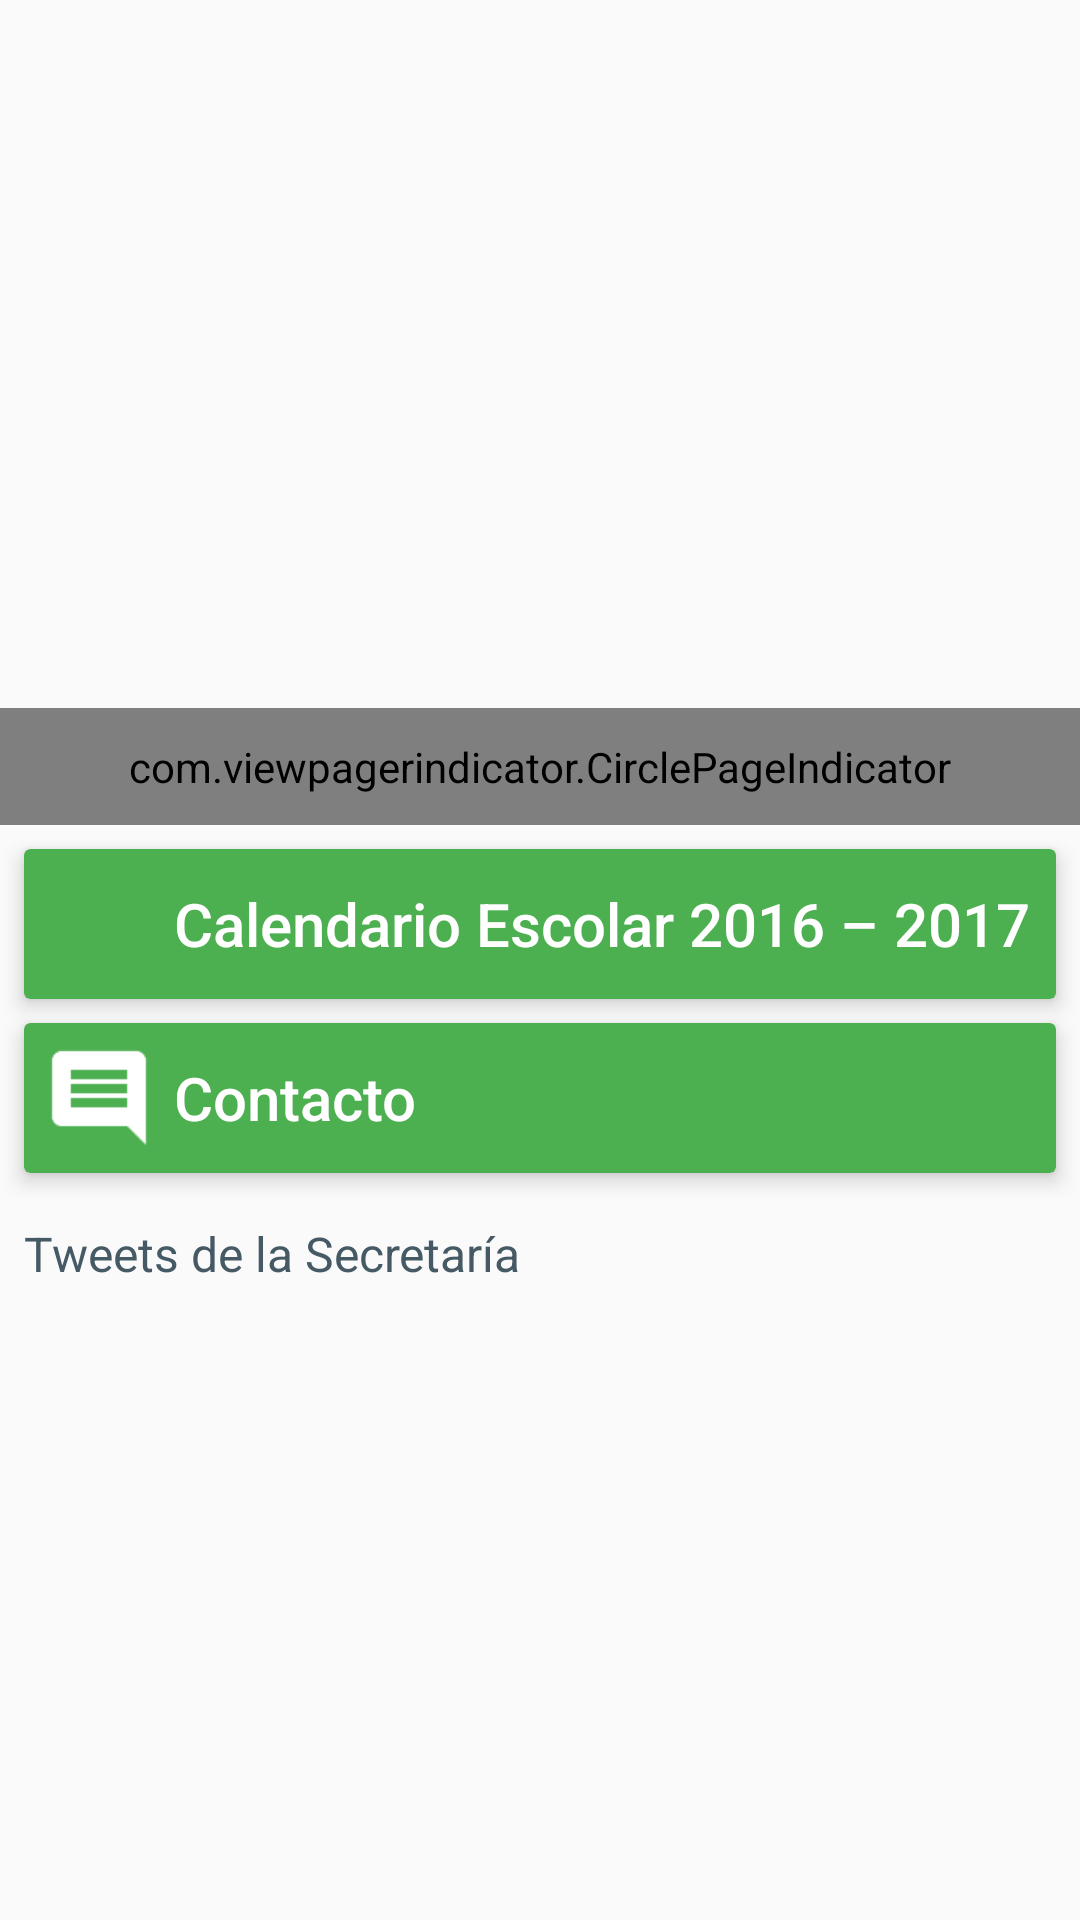

Point at icon controls on the screen. Image size 1080px x 1920px, points as point (x, y).
communication comment: point (99, 1098)
